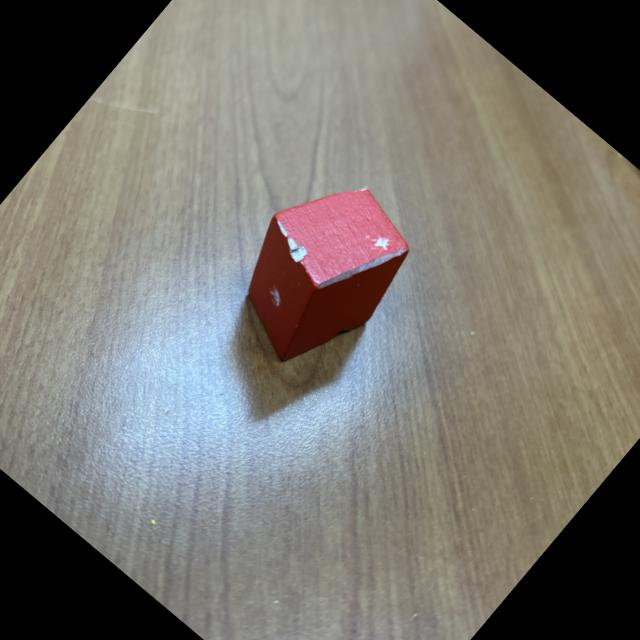broken: (202, 153, 434, 390)
